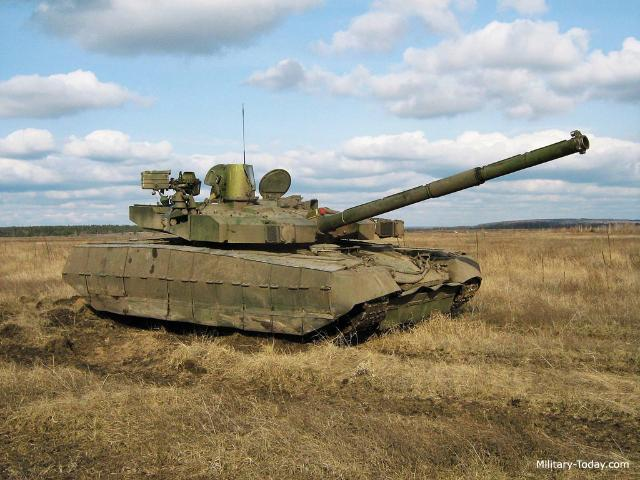tank: (73, 188, 473, 336)
